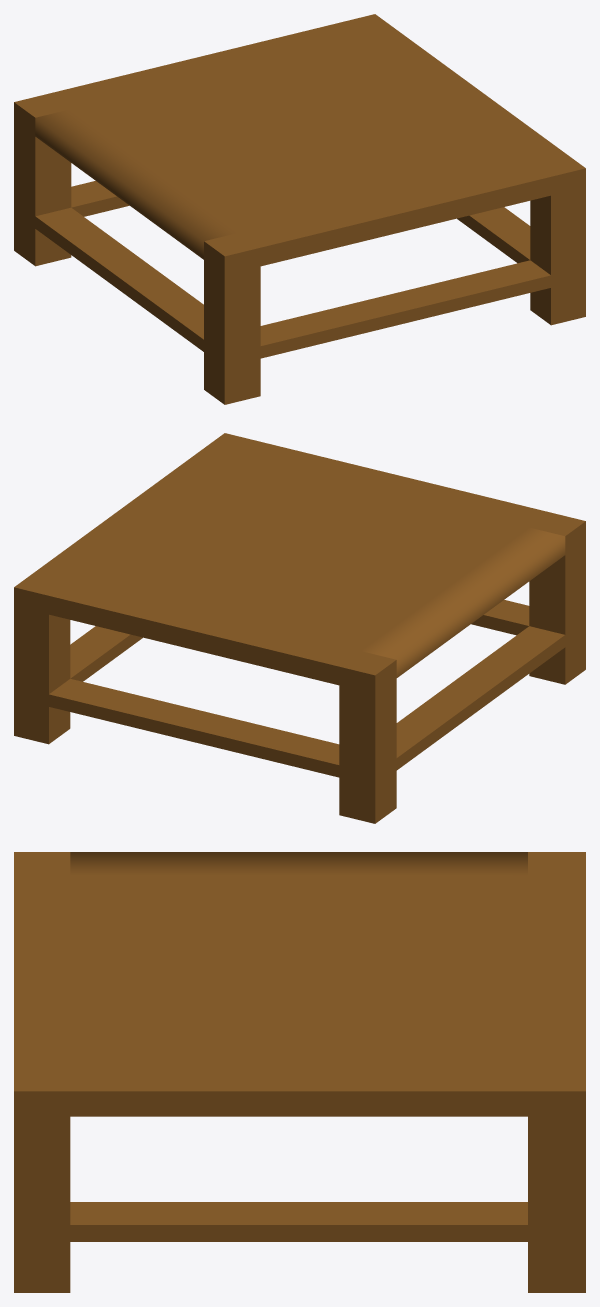
Rendered from stue_bord (1).fbx.
3 views of the same model, one above another, from view 1: azimuth 30°, elevation 25°; view 2: azimuth 150°, elevation 25°; view 3: azimuth 270°, elevation 25° (orthographic). The views are drawn at different scales.
Parts seen in each view (by area): view 1: Cube.001; view 2: Cube.001; view 3: Cube.001.
Boxes of the visible parts, bbox=[...] form: Cube.001: bbox=[14, 14, 585, 404]; Cube.001: bbox=[14, 433, 585, 823]; Cube.001: bbox=[14, 852, 585, 1292].
Size of the model in its own units: 2012 by 791 by 2034.
